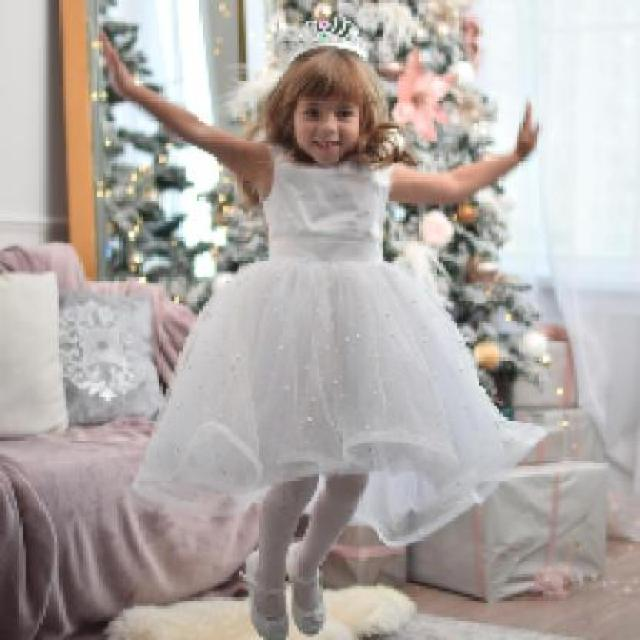child: (94, 22, 549, 638)
